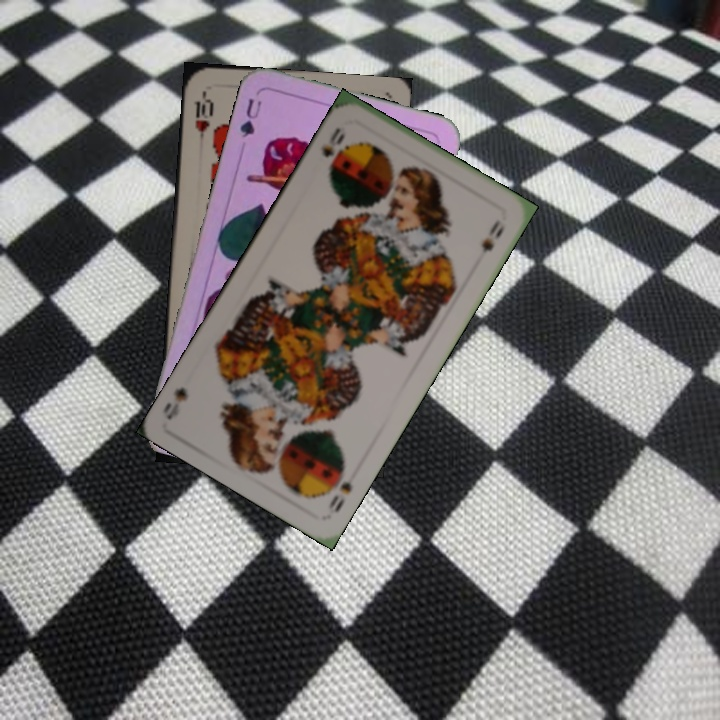GU: (236, 94, 264, 141)
H10: (191, 88, 216, 147)
SO: (324, 477, 355, 518), (316, 123, 348, 161)
